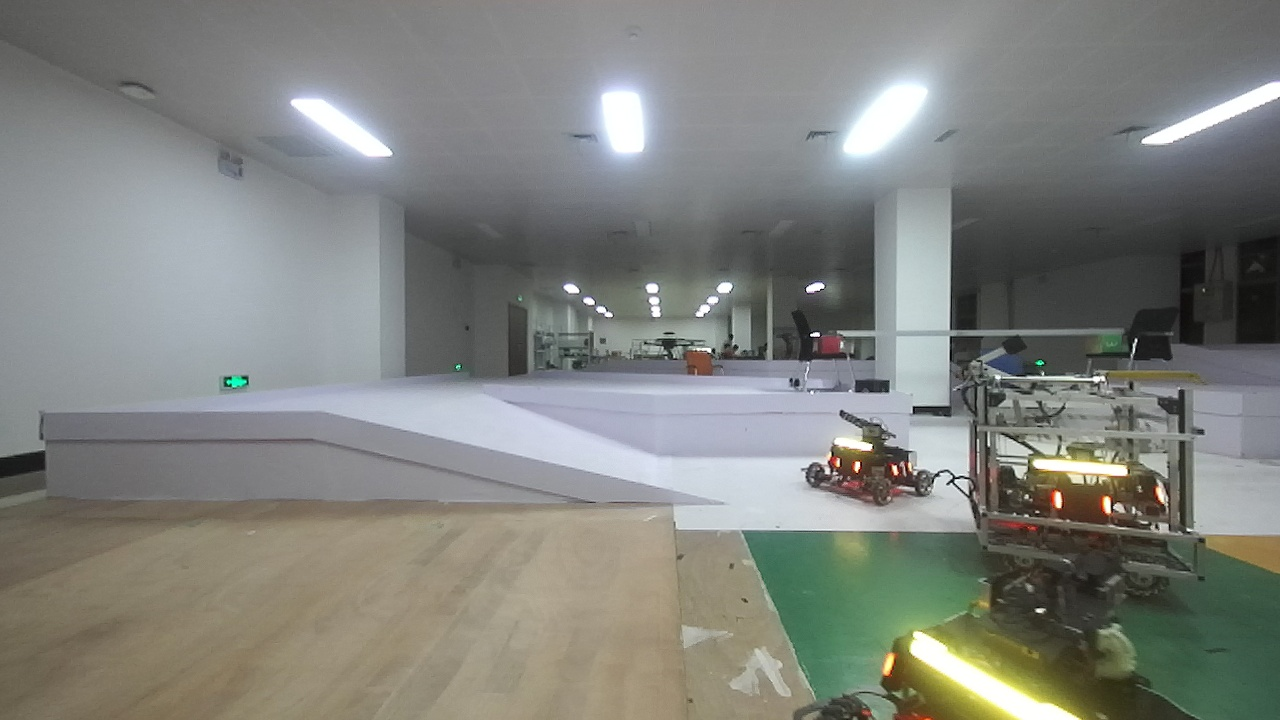car: (943, 348, 1220, 596), (788, 577, 1246, 720), (802, 393, 933, 515)
